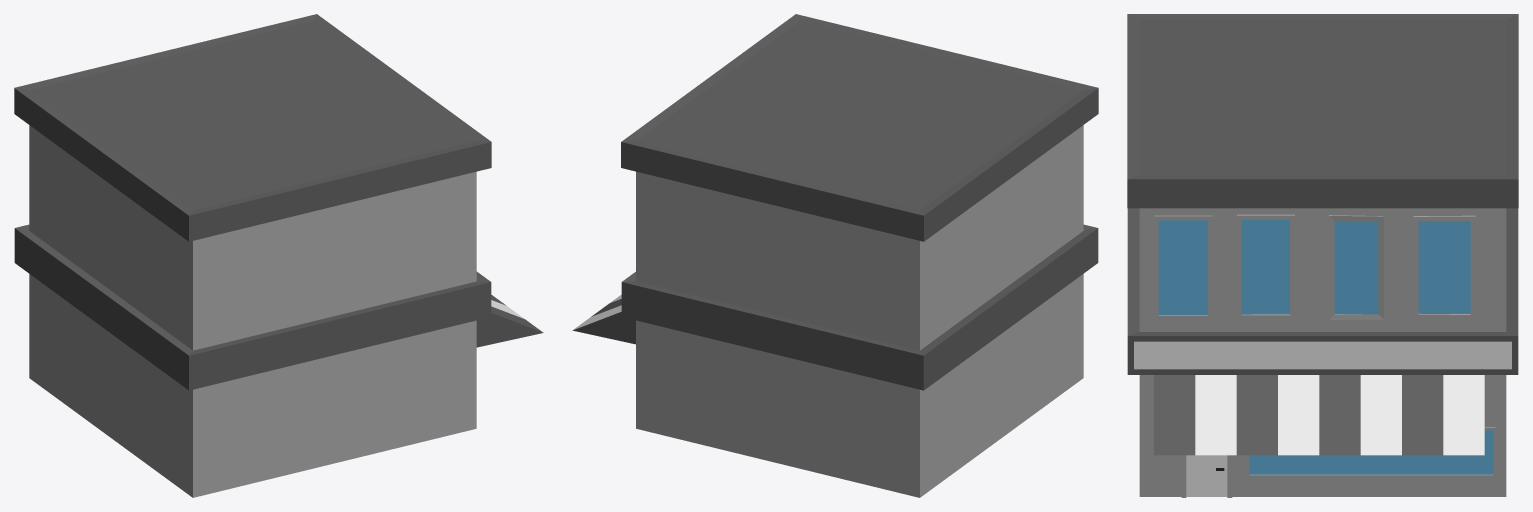
The model's file is greyscale shop.fbx.
3 renders of one model, left to right at view 1: azimuth 30°, elevation 25°; view 2: azimuth 150°, elevation 25°; view 3: azimuth 270°, elevation 25°, orthographic. The views are drawn at different scales.
Parts seen in each view (by area): view 1: Cube; view 2: Cube; view 3: Cube.
Boxes of the visible parts, box(x1,y1,x2,y2) form: Cube: box(14, 14, 543, 497); Cube: box(572, 14, 1098, 497); Cube: box(1127, 14, 1518, 497).
Size of the model in its own units: 259 by 194 by 213.
